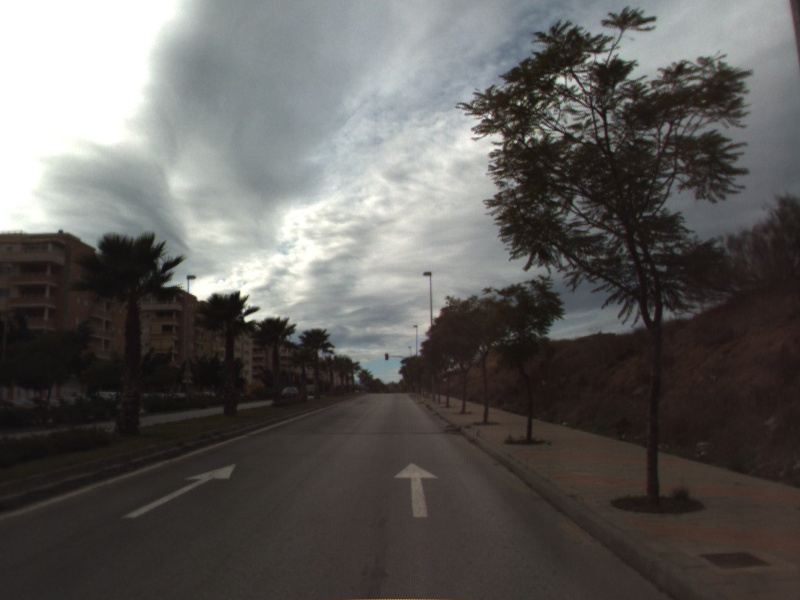STRAIGHT: (119, 461, 239, 521), (392, 461, 441, 519)
